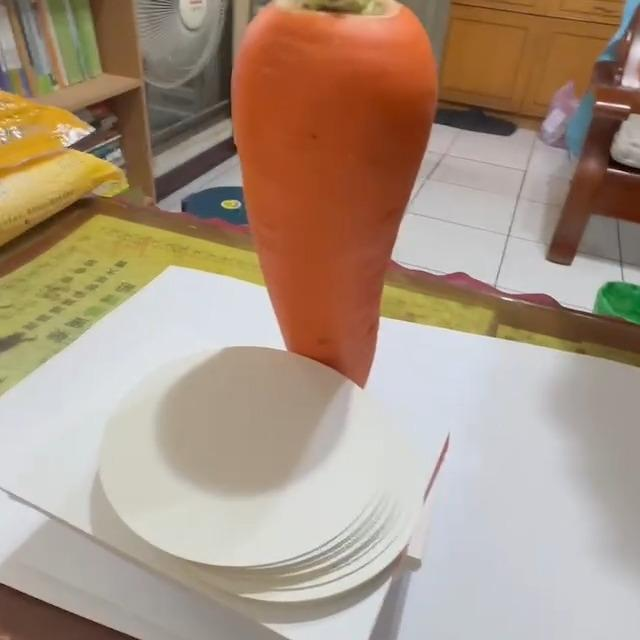carrot: (233, 1, 440, 388)
